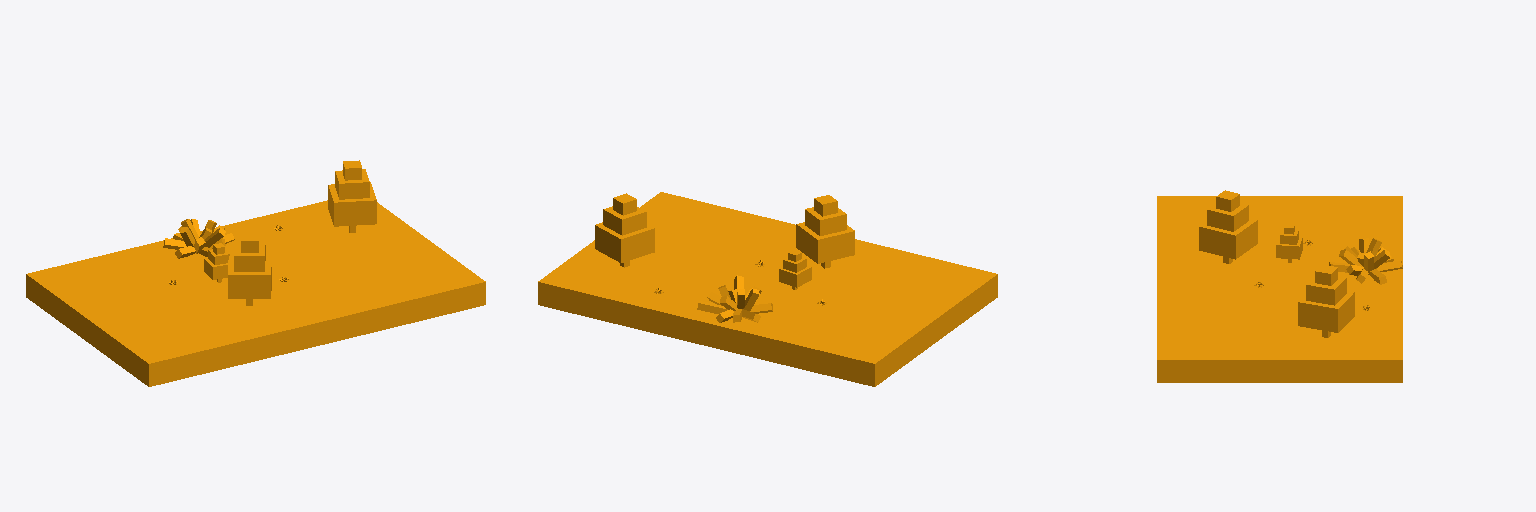
The picture shows the model from 3 angles: view 1: azimuth 30°, elevation 25°; view 2: azimuth 150°, elevation 25°; view 3: azimuth 270°, elevation 25°; orthographic projection.
Visible parts, largest first — view 1: 立方体; view 2: 立方体; view 3: 立方体.
Boxes of the visible parts, x1=… form: 立方体: x1=26, y1=160, x2=485, y2=386; 立方体: x1=538, y1=192, x2=997, y2=386; 立方体: x1=1157, y1=190, x2=1402, y2=382.
Size of the model in its own units: 30.27 by 7.76 by 19.14.
Materials: 1 (1 with a texture image).